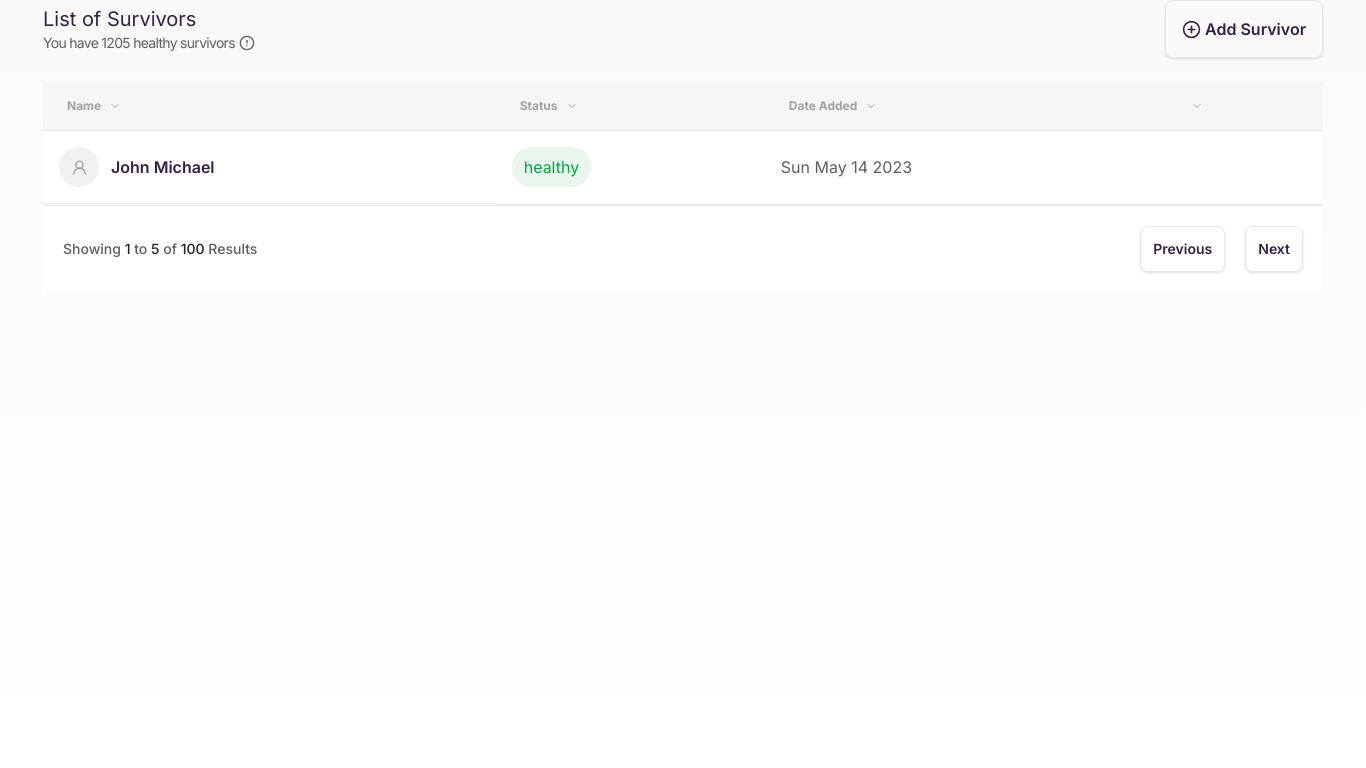
Test case: Survivors component › opens modal on clicking "Add Survivor" button
Step 1. Click the button "Add Survivor" → [1244, 29], box [1165,0,1323,58]
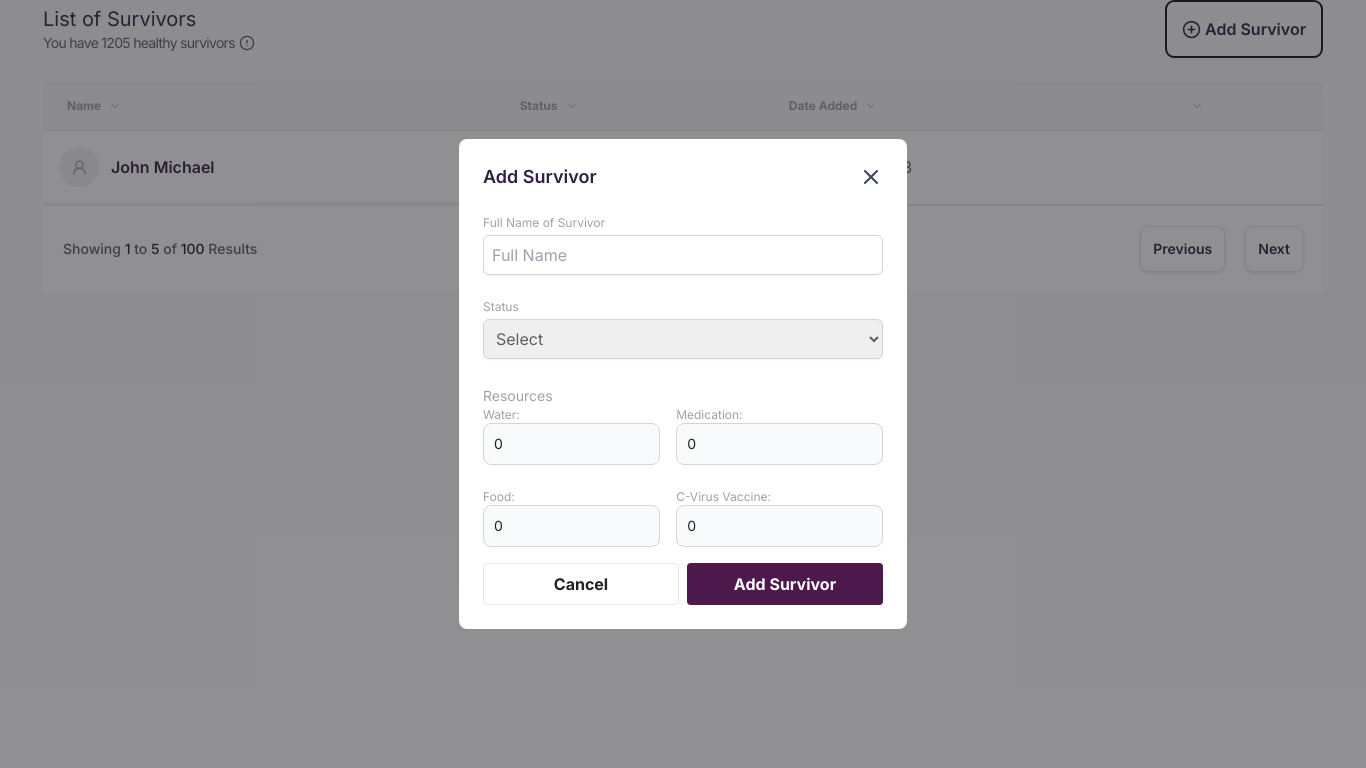
Check: the dialog is shown
